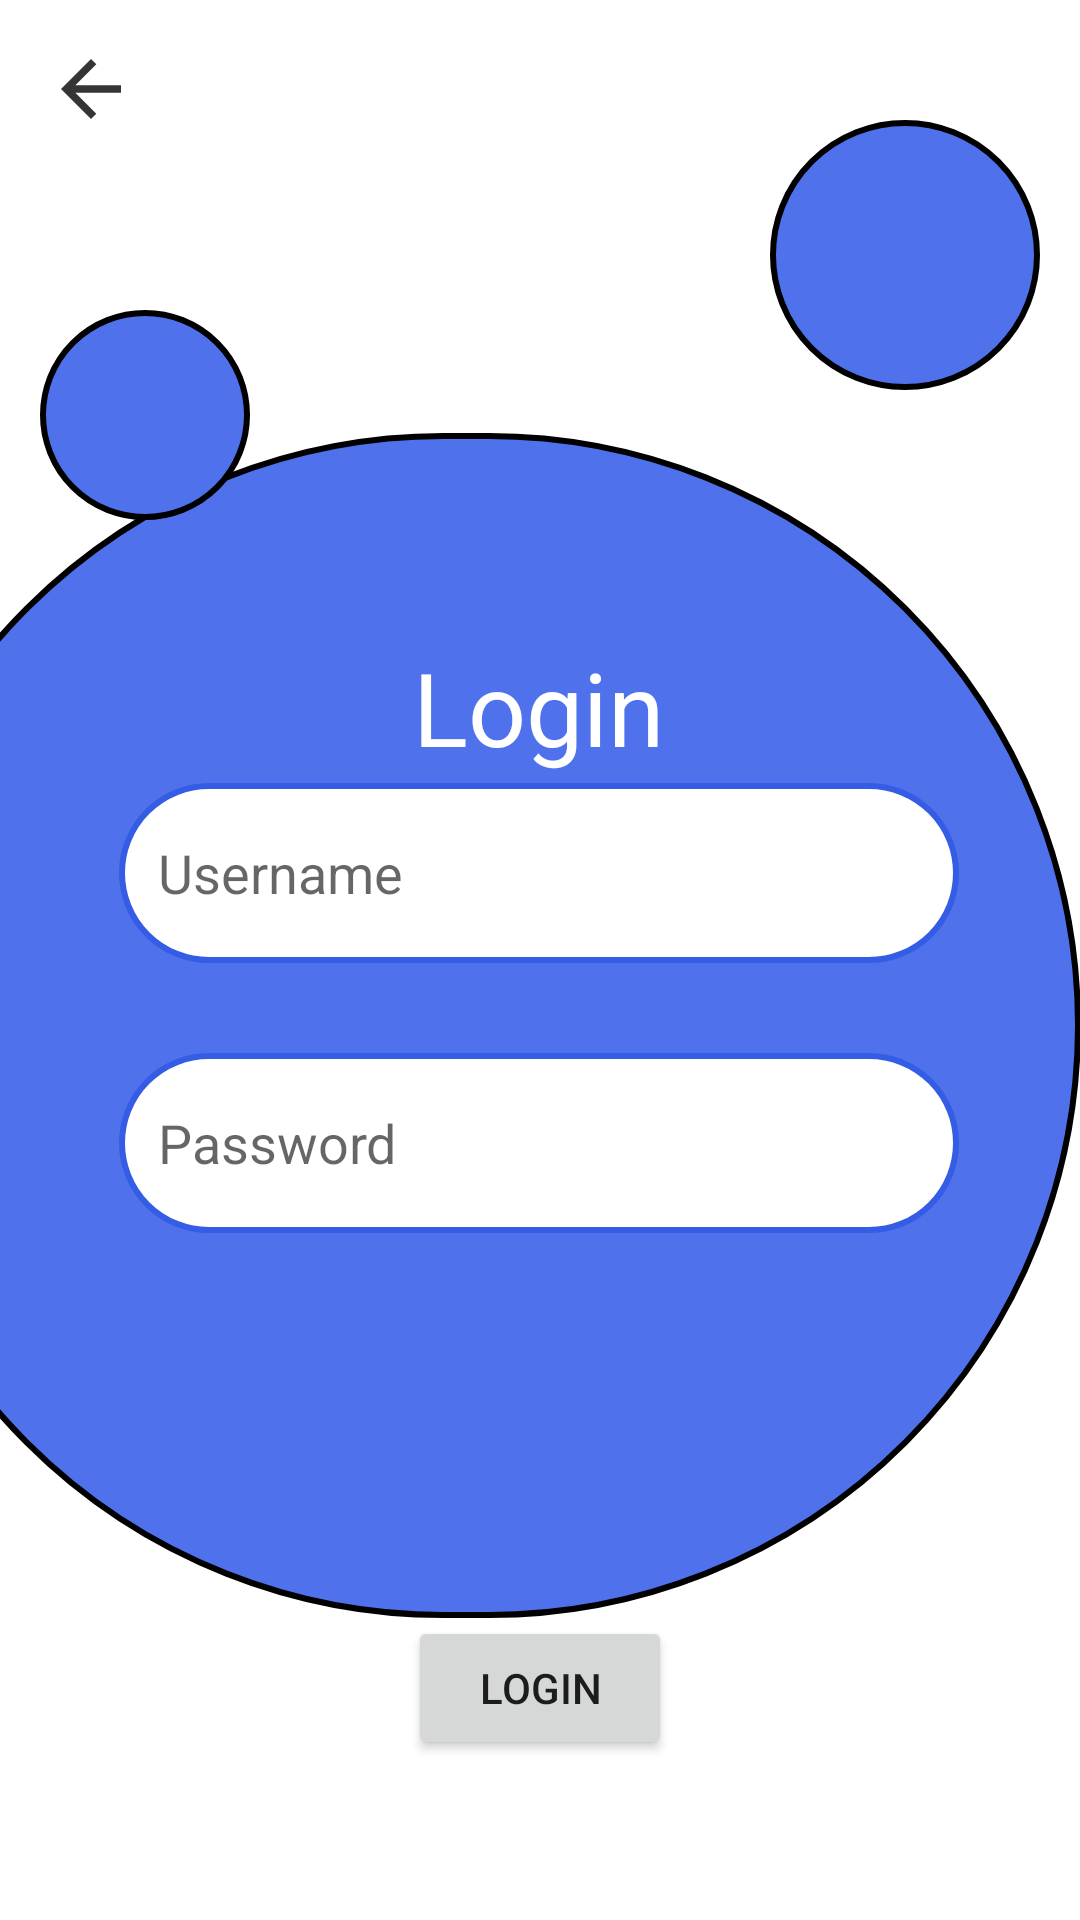

Where icons sit on this 1080 × 1920 app screen, as box=[x1, y1, x2, y2]:
arrow back: box=[61, 59, 121, 119]
